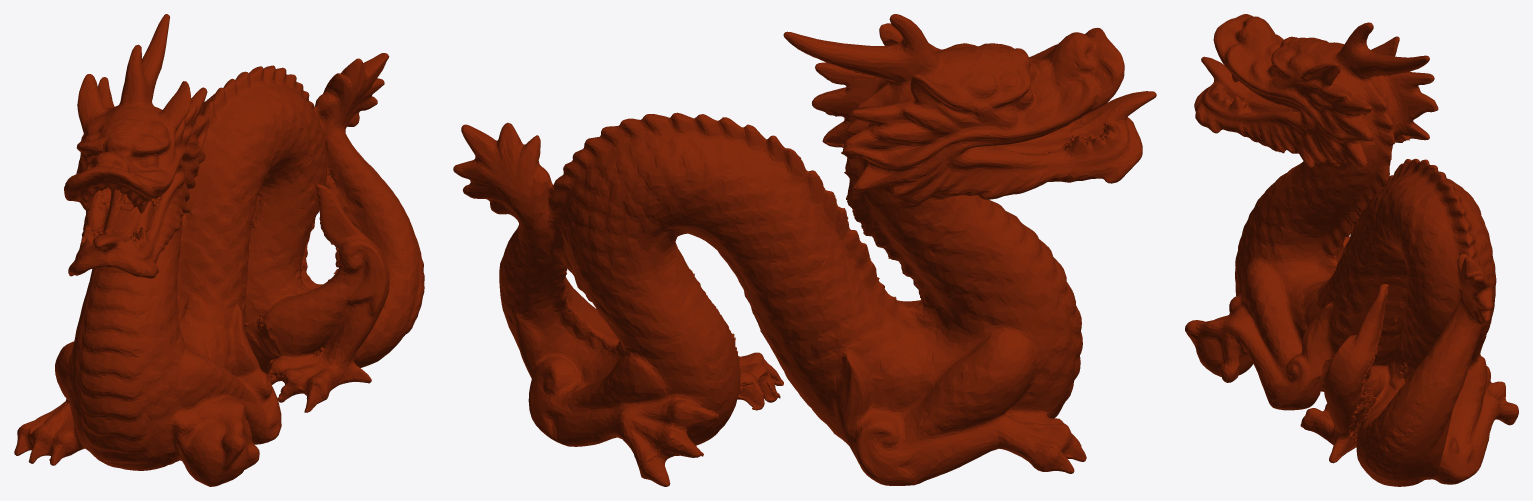
File: dragon.obj
The picture shows the model from 3 angles, left to right: view 1: azimuth 30°, elevation 25°; view 2: azimuth 150°, elevation 25°; view 3: azimuth 270°, elevation 25°; orthographic projection. The views are drawn at different scales.
Visible parts, largest first — view 1: dragon; view 2: dragon; view 3: dragon.
Part boxes in pixels (left/top/right/bottom): dragon: left=14, top=14, right=424, bottom=486; dragon: left=453, top=14, right=1156, bottom=486; dragon: left=1185, top=14, right=1518, bottom=486.
Size of the model in its own units: 1.23 by 0.994 by 0.8602.
